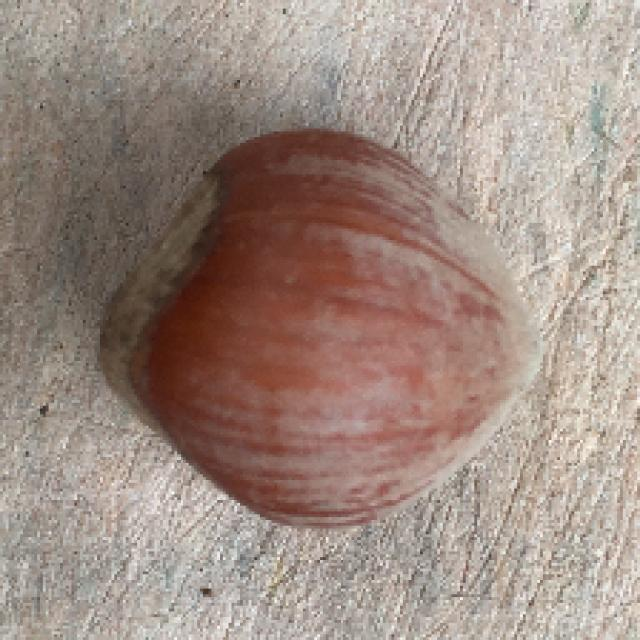qualityHazelnut: (97, 125, 544, 533)
